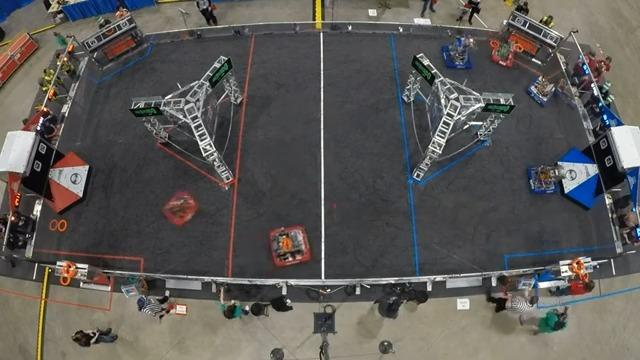robot: (266, 221, 317, 272), (157, 186, 199, 228), (523, 162, 563, 197), (525, 72, 558, 108), (441, 38, 473, 69), (490, 33, 517, 67)
